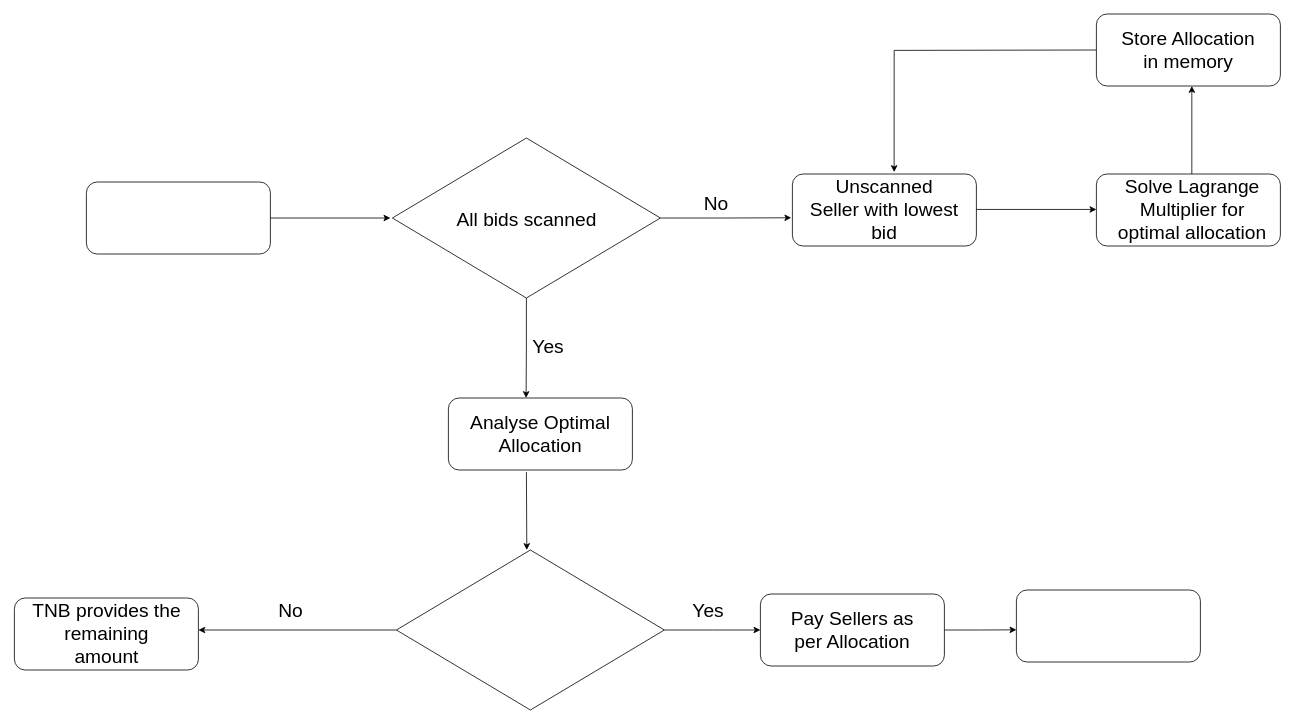
Some shapes in this 1294 by 724 pixel diagram are drawn without their labels. Each missing label, with the centre of its shape:
"Closed Buy Request" belongs at (178,217).
"Demand Satisfied" belongs at (530,629).
"Pass Surplus to TNB" belongs at (1108,625).
